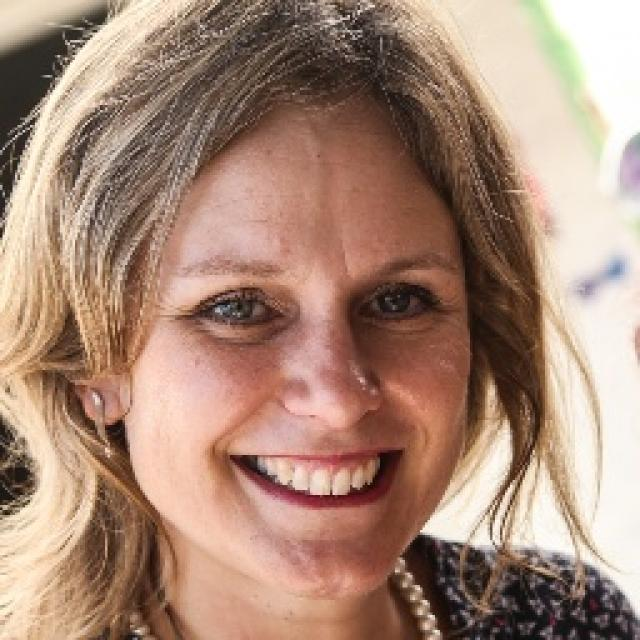earlobe: (80, 371, 130, 426)
eye: (198, 290, 280, 328), (358, 285, 438, 320)
nose: (283, 401, 395, 467)
